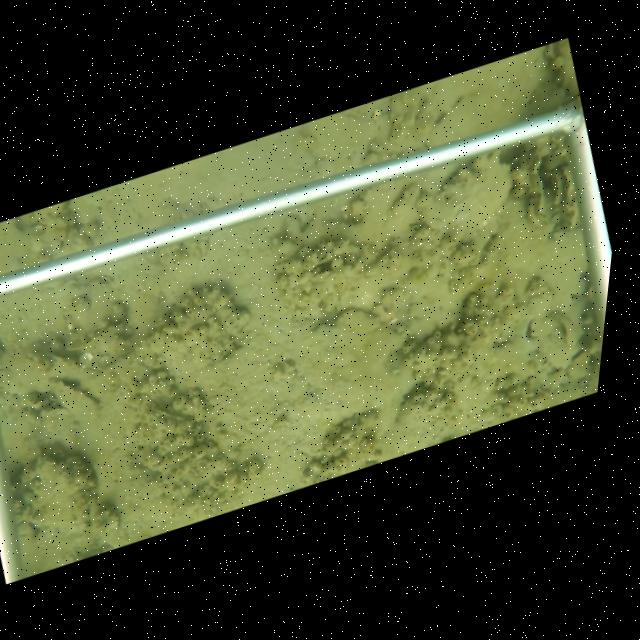Oyster-Closed: (41, 377, 102, 423), (558, 163, 579, 236)
Oyster-Indeterminate: (416, 153, 517, 256)
Oyster-Open: (520, 145, 562, 226)
